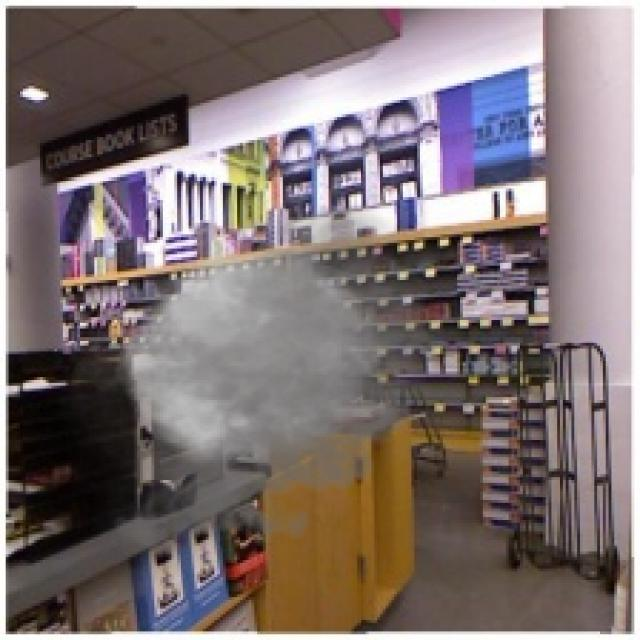smoke: (46, 191, 460, 563)
